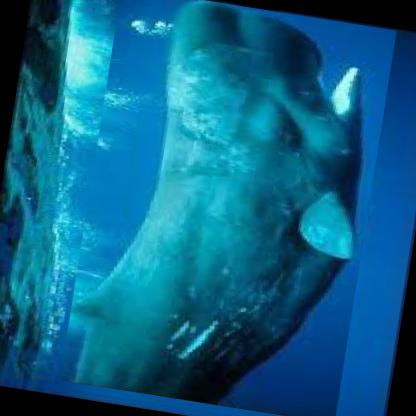sperm_whale: (59, 0, 398, 415)
